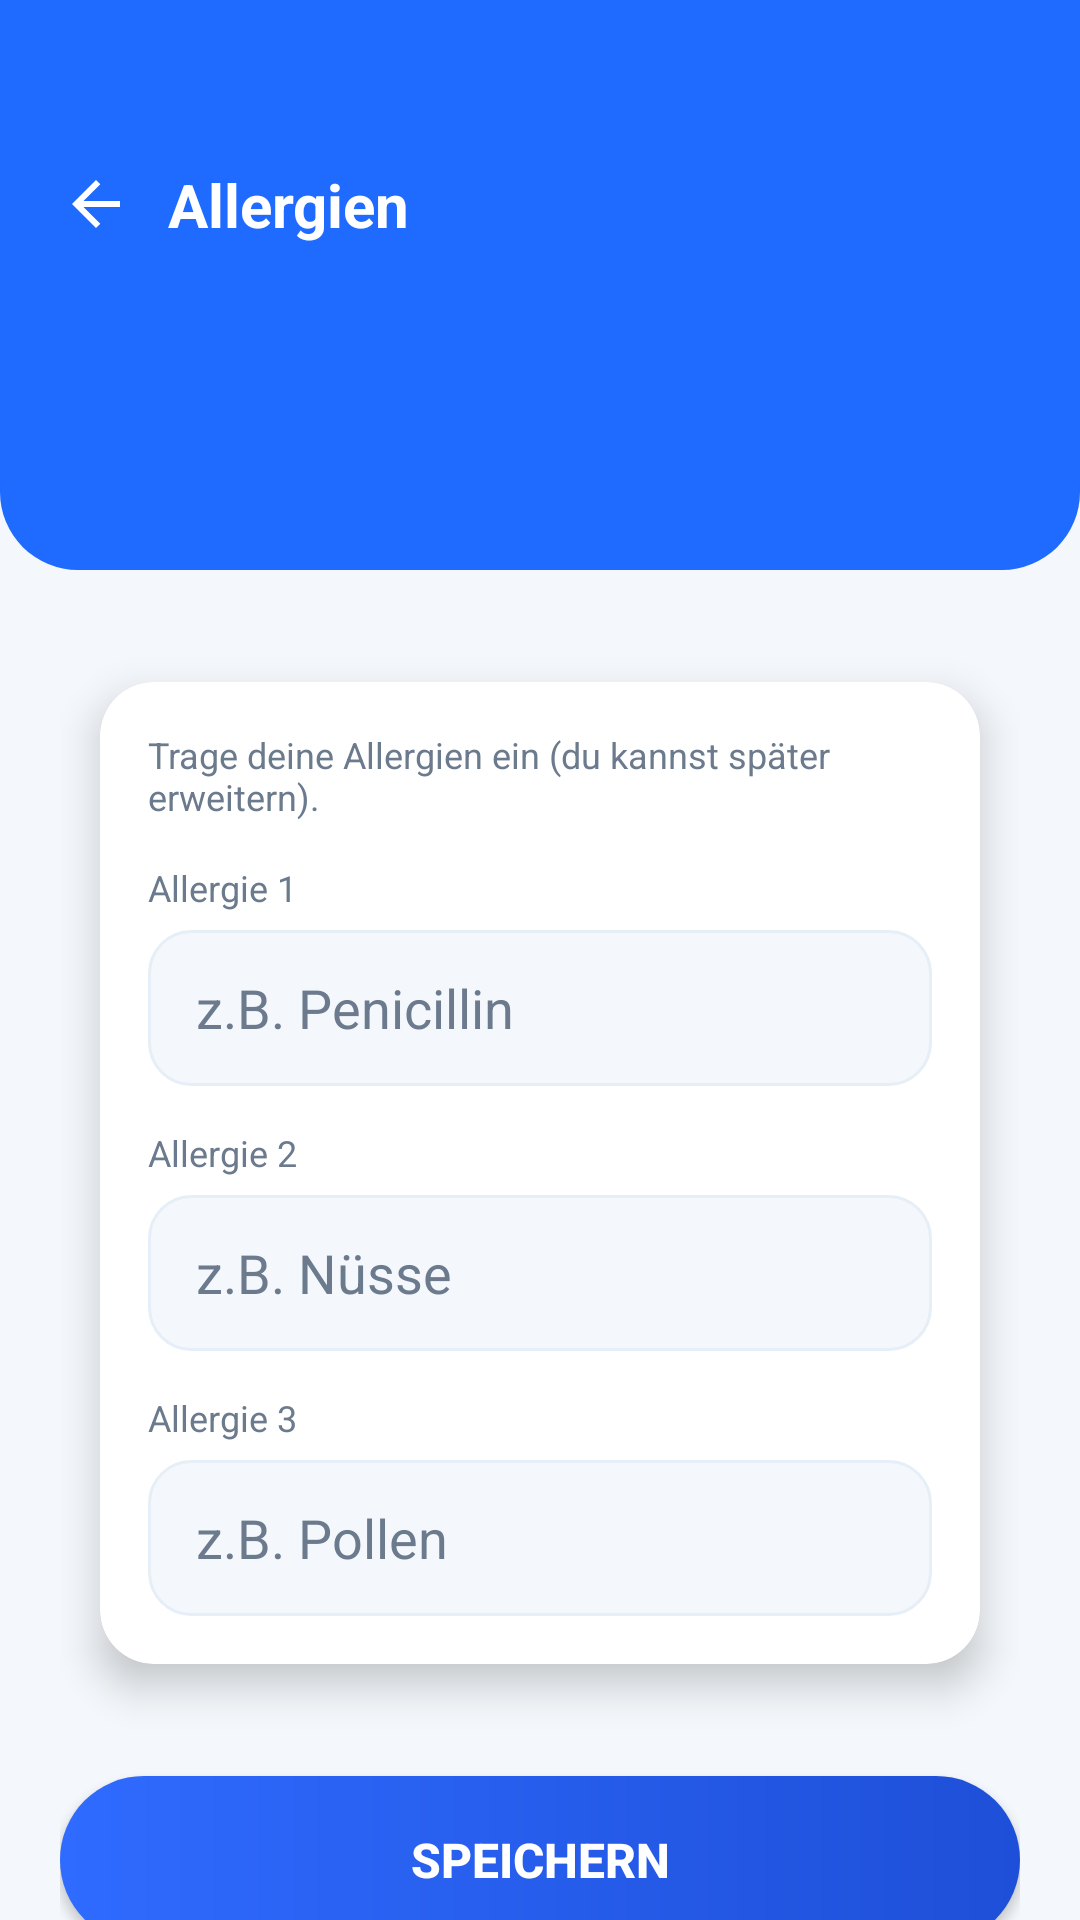

Where icons sit on this 1080*1920 app screen, as (x1, y1, x2, y2):
back: (72, 180, 120, 228)
